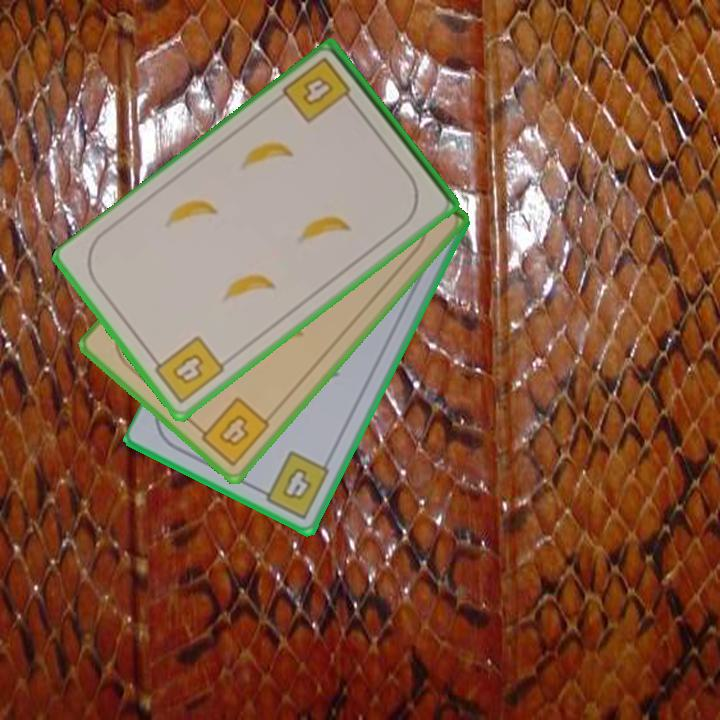4b: (191, 393, 273, 470), (147, 332, 228, 407), (254, 447, 333, 522), (279, 54, 360, 127)
